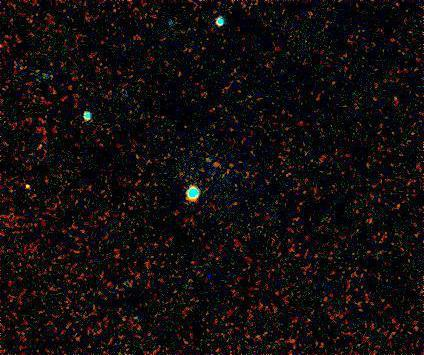star: (15, 175, 45, 205)
